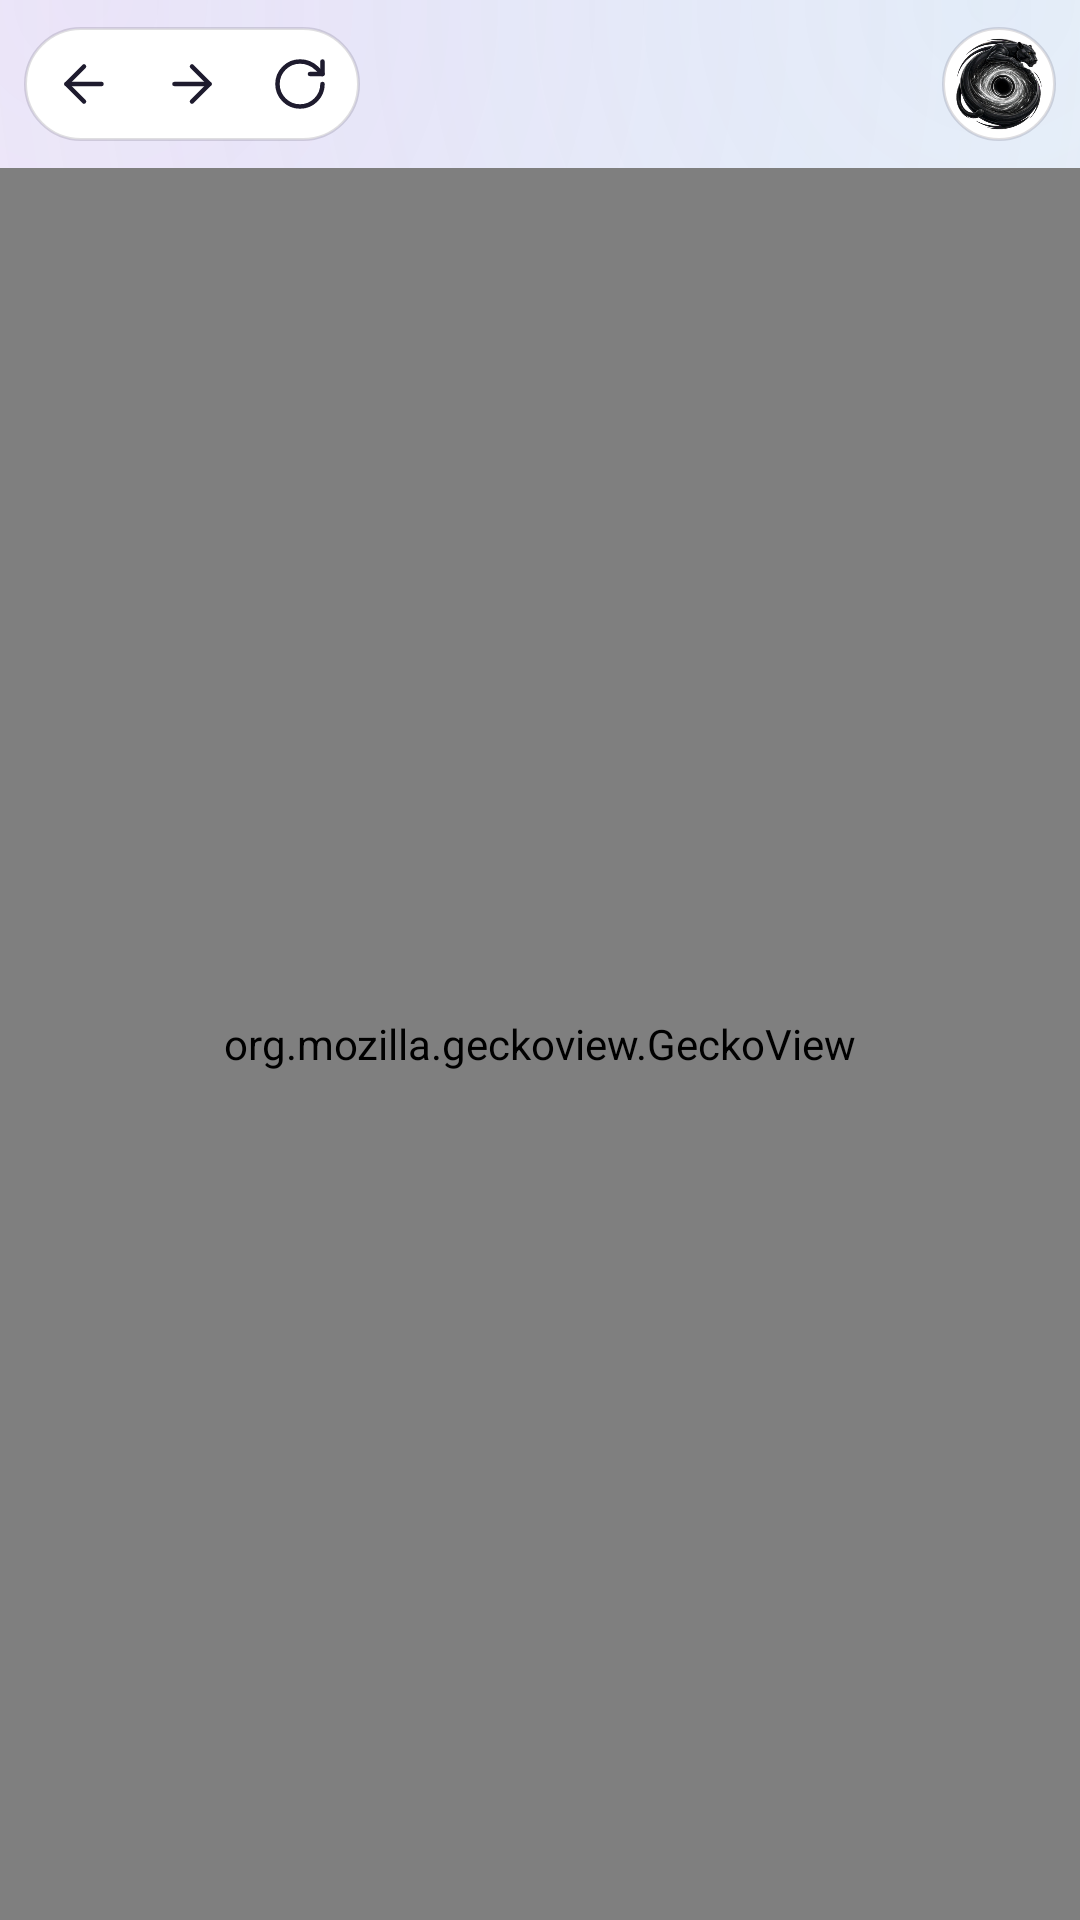

Icon click points for this 1080px×1920px phone screenshot, format [x,y]:
Back: [84,84]
Forward: [192,84]
Reload: [300,84]
